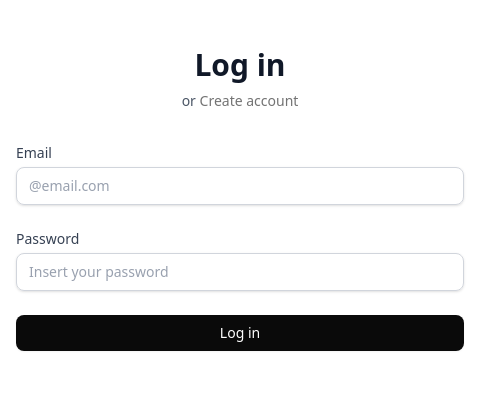
Test case: Login › Should show "unknown" error for unexpected codes
Type "test@test.com" into the field labelled "Email".
click(240, 186); type("test@test.com")  # box [16, 167, 464, 205]
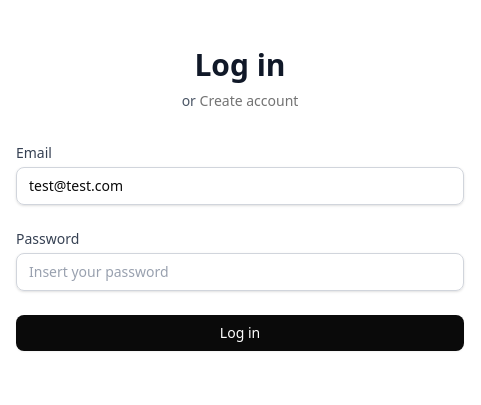
Type "Password123" into the password field labelled "Password".
click(240, 272); type("Password123")  # box [16, 253, 464, 291]
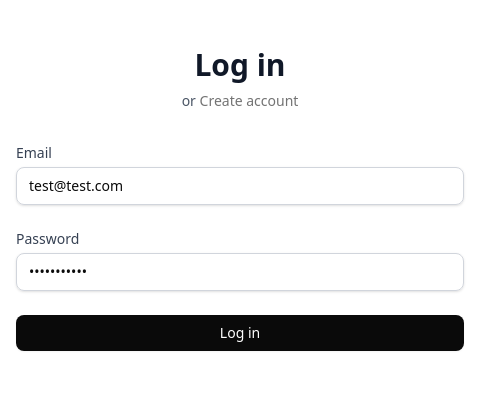
Click the button "Log in".
click(240, 333)  # box [16, 315, 464, 351]
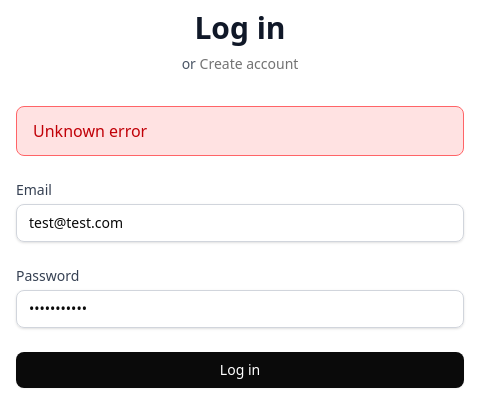
Expected: the text "Unknown error" is shown, [16, 106, 464, 156]
